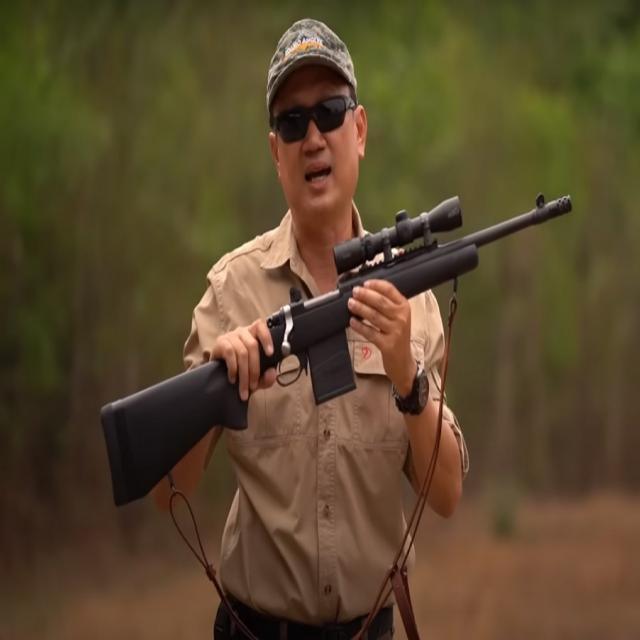rifle: (91, 182, 582, 511)
